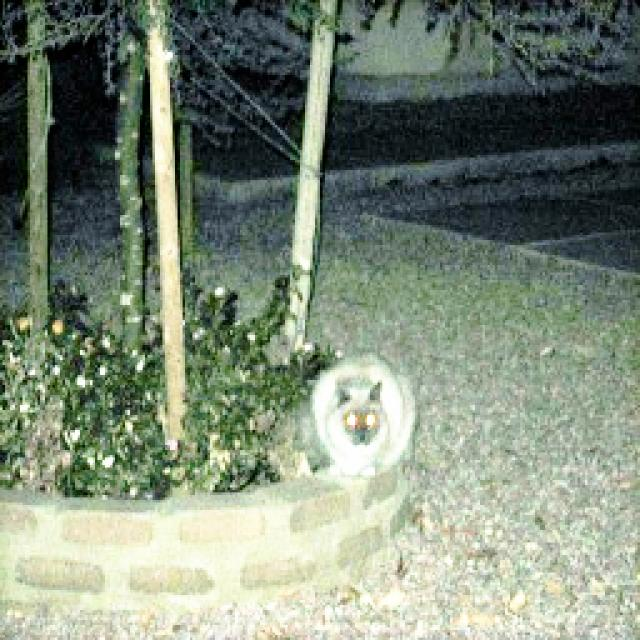cat: (308, 349, 417, 481)
